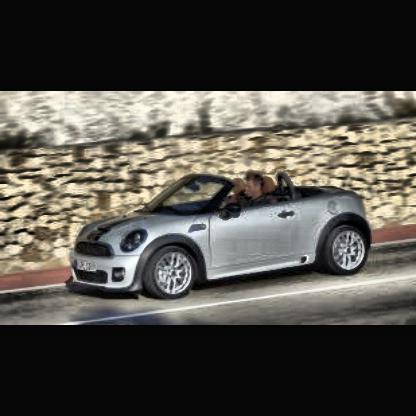MINI Cooper Roadster Convertible 2012: (70, 166, 375, 304)
